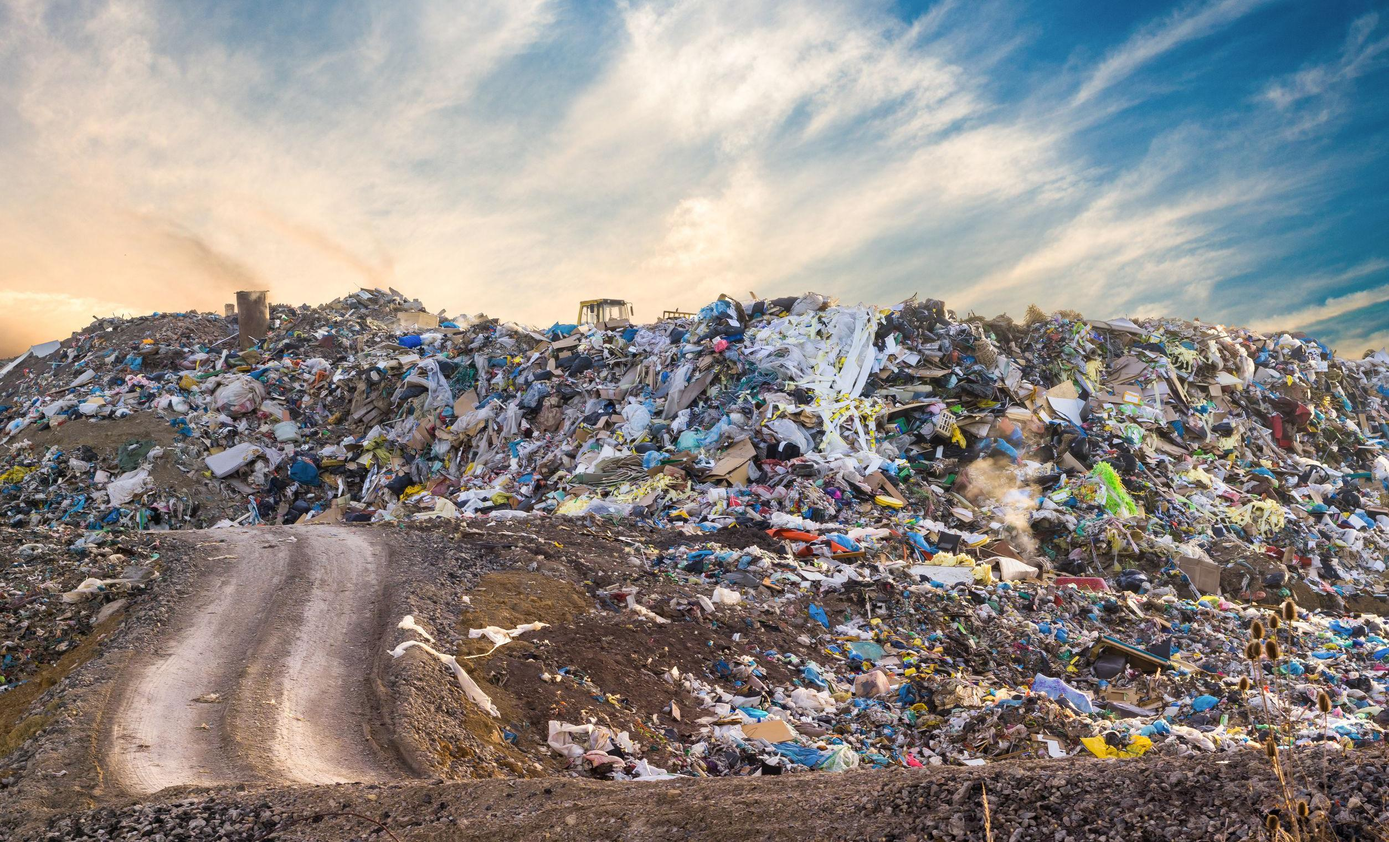garbage: (32, 287, 1389, 519), (597, 516, 1388, 776)
